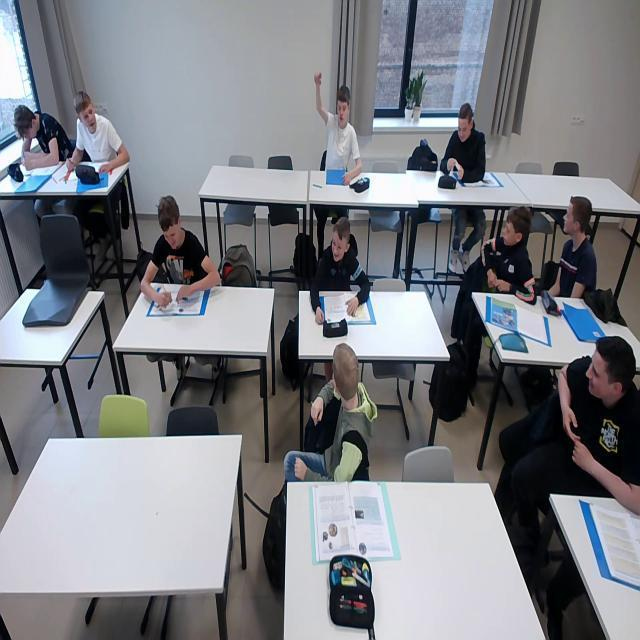Looking away: (74, 92, 99, 129), (331, 218, 351, 261), (455, 103, 472, 141)
Raising hand: (311, 72, 366, 183)
Reading-writing: (141, 197, 223, 311), (14, 102, 67, 170)
Turning around: (558, 335, 640, 516), (293, 342, 373, 482), (480, 203, 538, 306), (553, 194, 598, 298)
